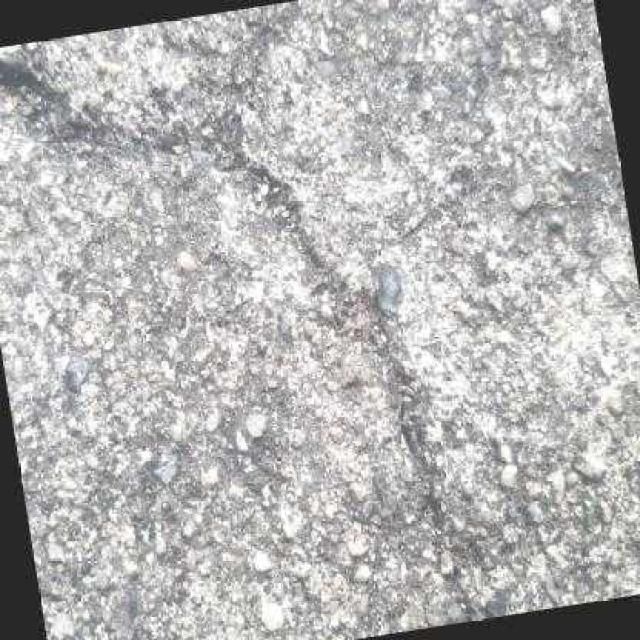D00: (0, 5, 501, 623)
